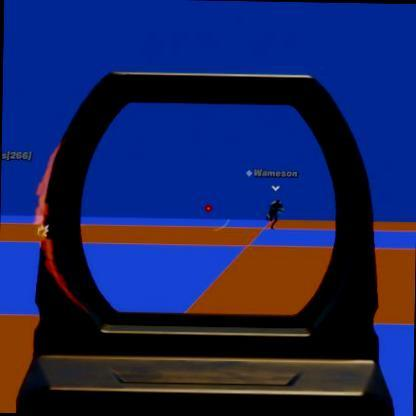person: (265, 198, 284, 226)
